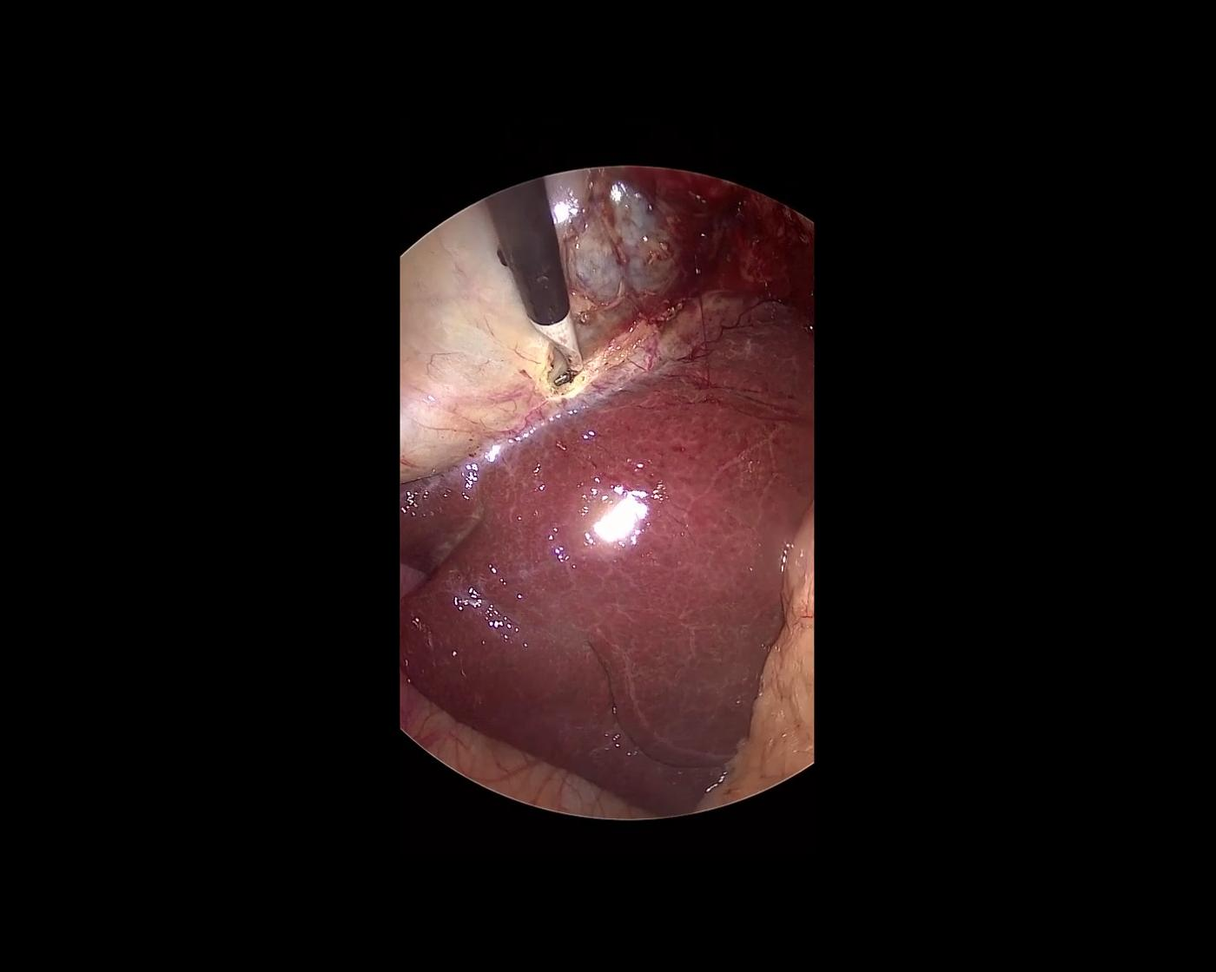Cautery: (485, 177, 592, 390)
Gallbladder: (290, 68, 779, 504)
Liver: (327, 208, 879, 831)
